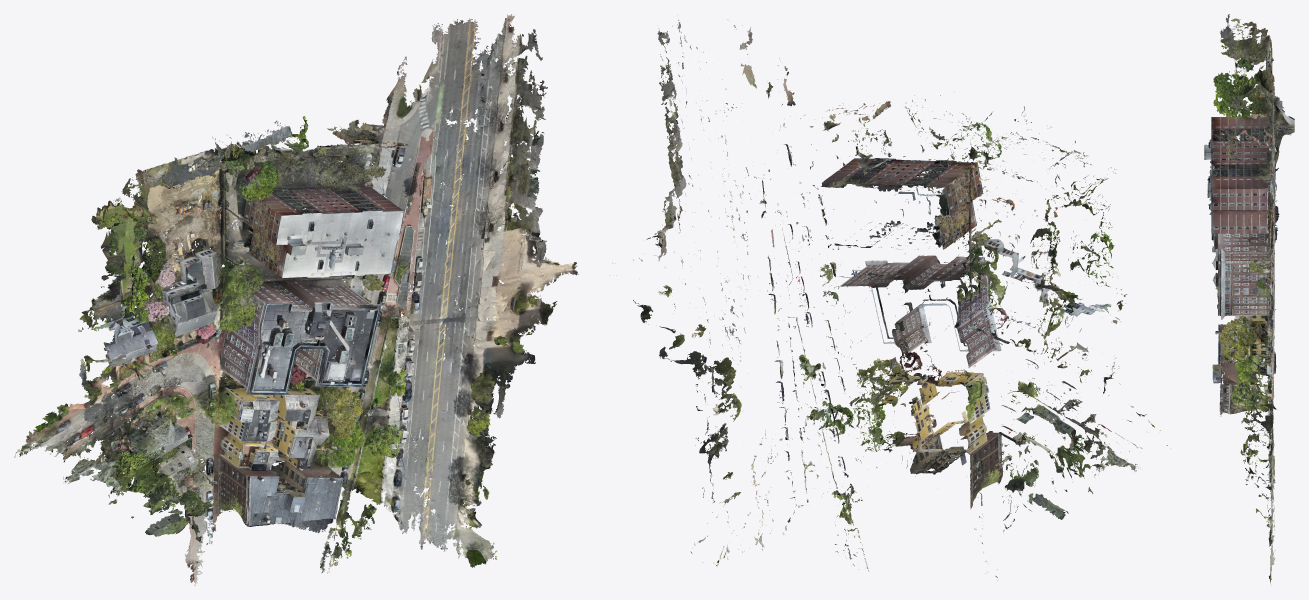
The model's file is odm_textured_model_geo.mobile.glb.
3 views of the same model, side by side, from view 1: azimuth 30°, elevation 25°; view 2: azimuth 150°, elevation 25°; view 3: azimuth 270°, elevation 25° (orthographic). The views are drawn at different scales.
Bounding box in the file's own units: 184 × 171 × 30.05.
Materials: 195 (195 with a texture image).
